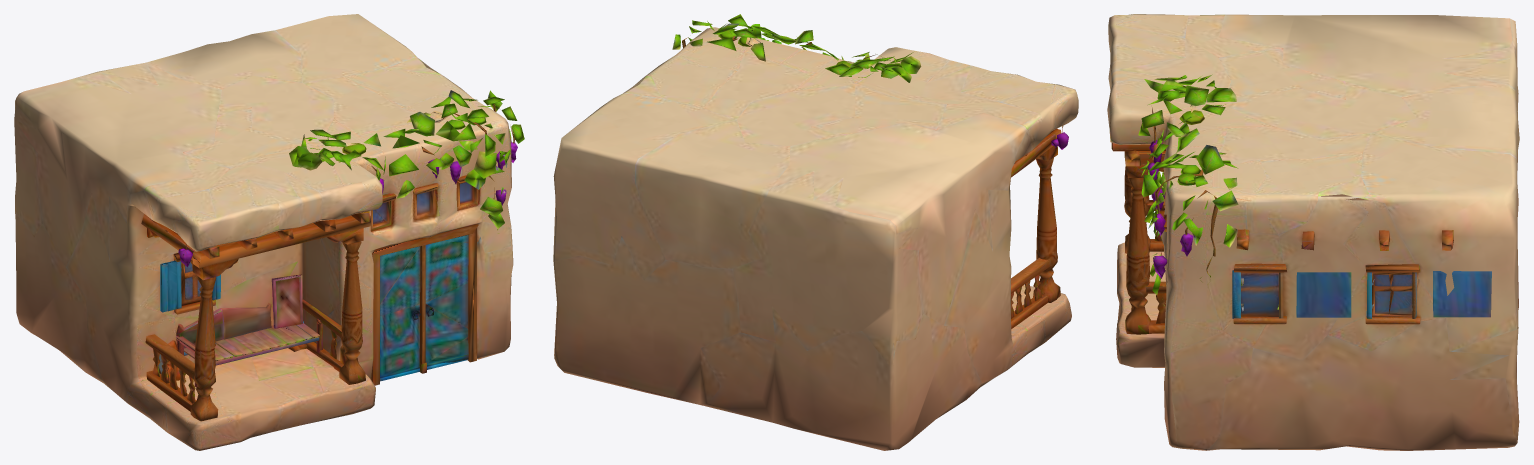
The model's file is mahalla.glb.
3 views of the same model, side by side, from view 1: azimuth 30°, elevation 25°; view 2: azimuth 150°, elevation 25°; view 3: azimuth 270°, elevation 25° (orthographic). The views are drawn at different scales.
Visible parts, largest first — view 1: geometry_0; view 2: geometry_0; view 3: geometry_0.
Part boxes in pixels (x1,y1,x2,y2): geometry_0: [14, 14, 524, 450]; geometry_0: [553, 14, 1078, 450]; geometry_0: [1107, 14, 1519, 450].
Size of the model in its own units: 0.9487 by 0.6416 by 0.8414.
1 material, 1 textured.
